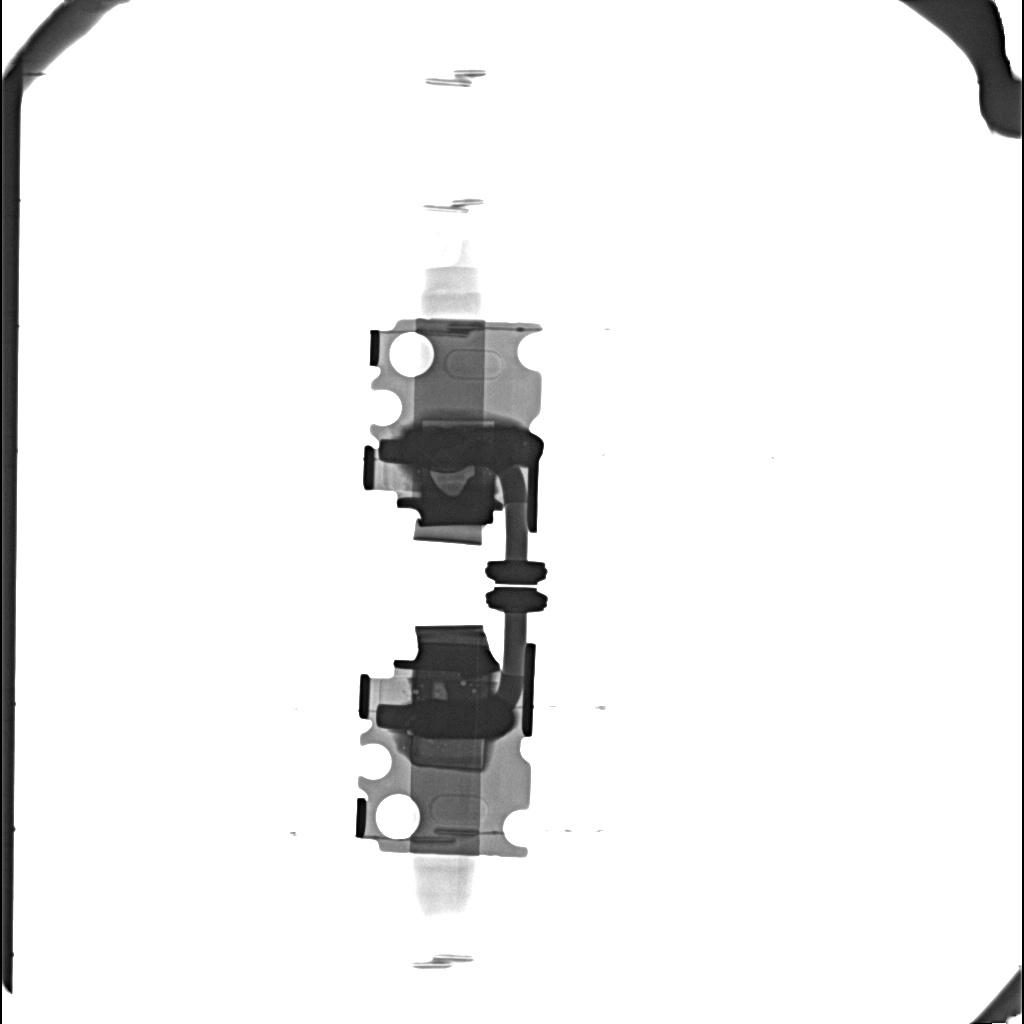气孔: (409, 737, 488, 771), (420, 417, 497, 427)
气泡: (431, 467, 475, 497), (432, 681, 448, 701)
水纹: (402, 427, 542, 467), (406, 699, 513, 739)
